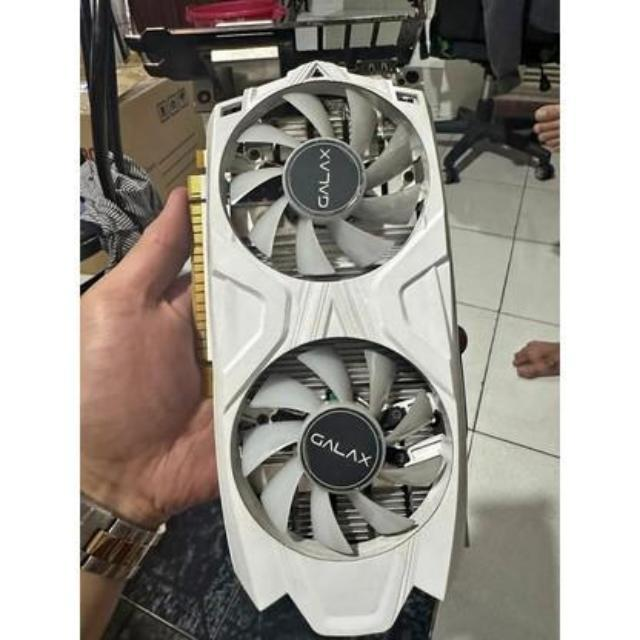GPU: (184, 33, 492, 633)
